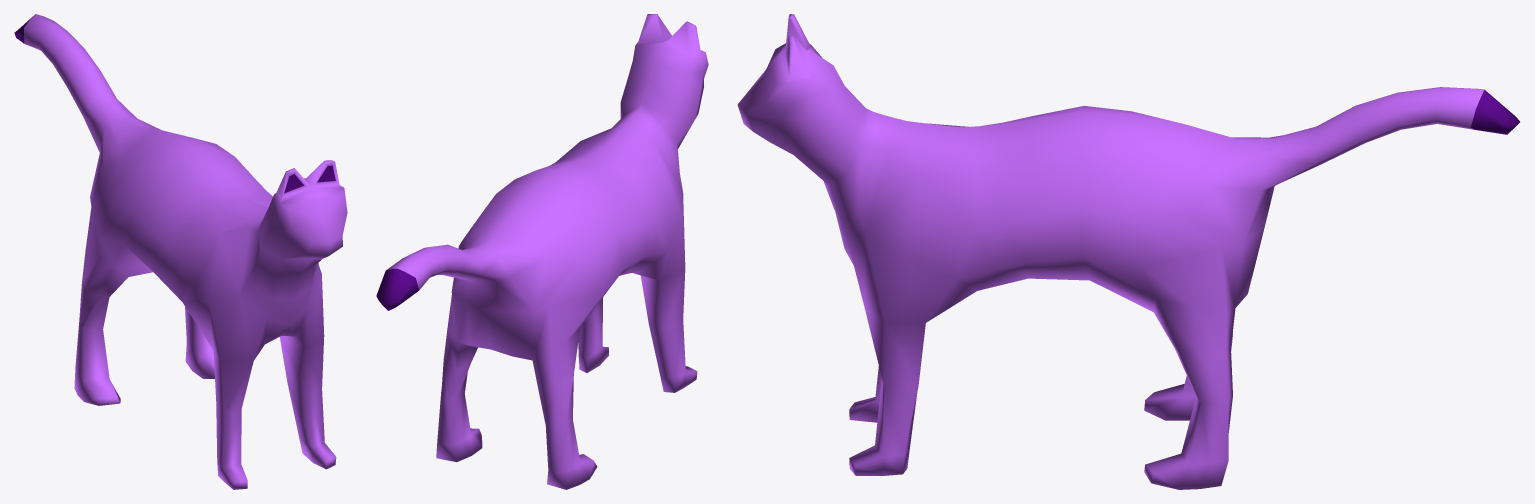
Rendered from CatSmooth.fbx.
The picture shows the model from 3 angles, left to right: view 1: azimuth 30°, elevation 25°; view 2: azimuth 150°, elevation 25°; view 3: azimuth 270°, elevation 25°; orthographic projection. The views are drawn at different scales.
Parts seen in each view (by area): view 1: Cat.002; view 2: Cat.002; view 3: Cat.002.
Boxes of the visible parts, x1,y1,x2,y2 form: Cat.002: (14, 14, 347, 489); Cat.002: (376, 14, 708, 489); Cat.002: (737, 14, 1519, 489).
Bounding box in the file's own units: 0.2253 × 0.497 × 0.8399.
